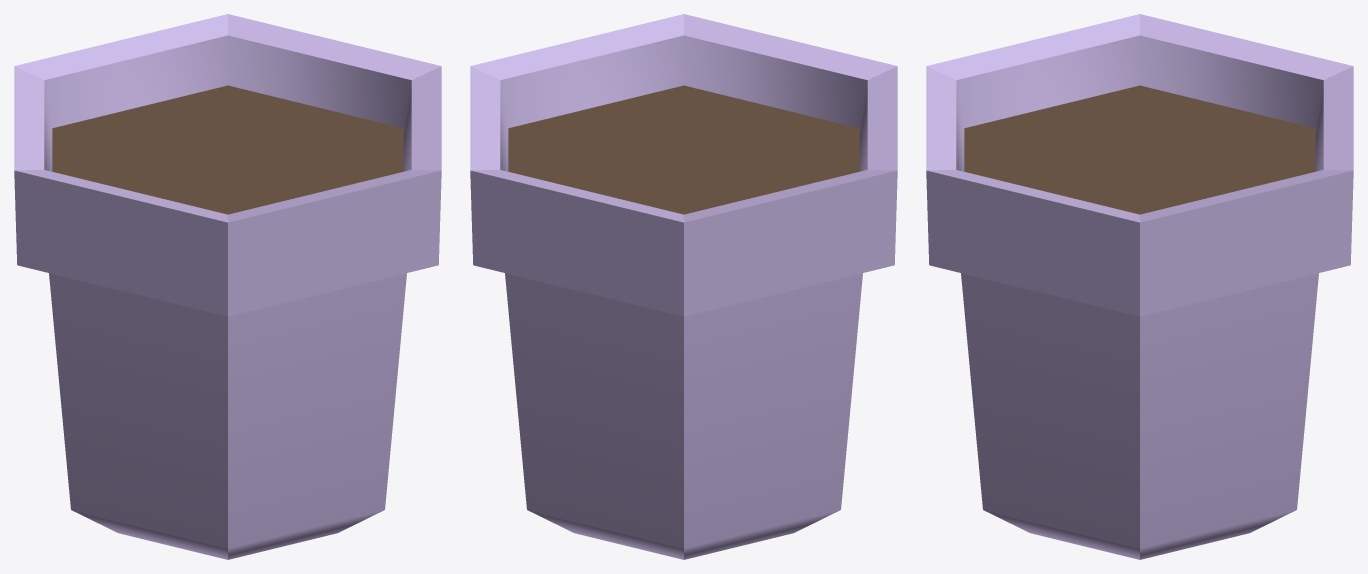
File: plant06_01.gltf
3 views of the same model, side by side, from view 1: azimuth 30°, elevation 25°; view 2: azimuth 150°, elevation 25°; view 3: azimuth 270°, elevation 25° (orthographic).
Visible parts, largest first — view 1: pot, dirt; view 2: pot, dirt; view 3: pot, dirt.
Part boxes in pixels (x1,y1,x2,y2): pot: (14,14,441,559); dirt: (52,85,403,214); pot: (470,14,897,559); dirt: (508,85,859,214); pot: (926,14,1353,559); dirt: (964,85,1315,214).
Bounding box in the file's own units: 0.0193 × 0.0167 × 0.0167.
1 material, 1 textured.
